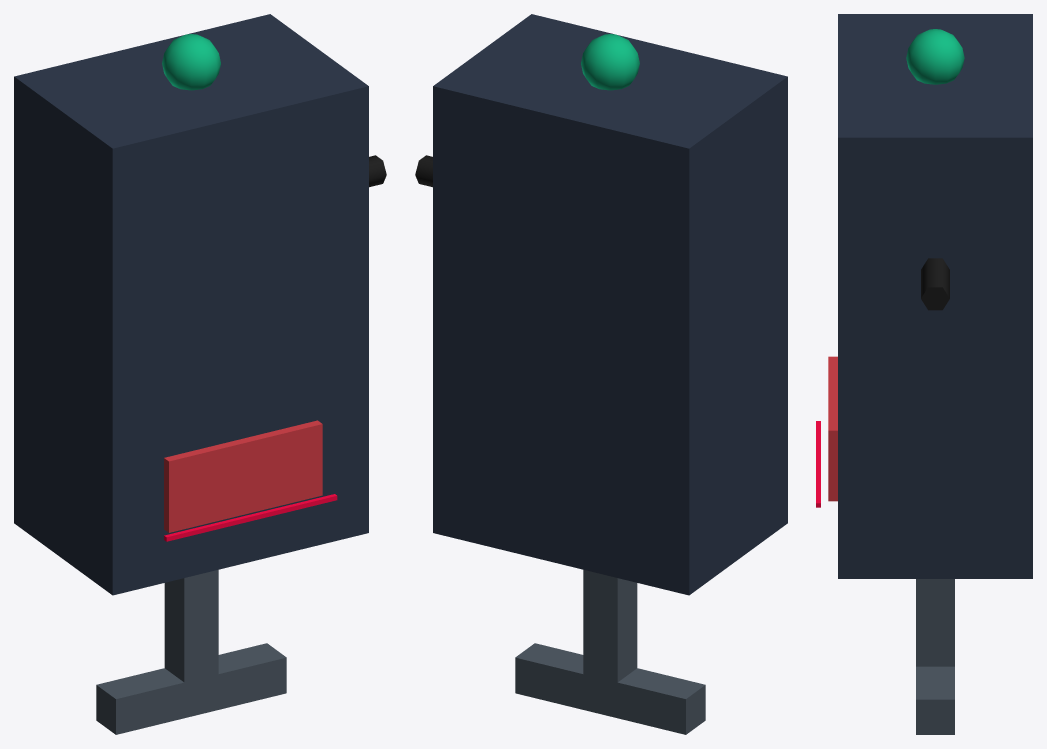
File: barcode-scanner.glb
3 renders of one model, left to right at view 1: azimuth 30°, elevation 25°; view 2: azimuth 150°, elevation 25°; view 3: azimuth 270°, elevation 25°, orthographic.
Size of the model in its own units: 0.37 by 0.75 by 0.2225.
